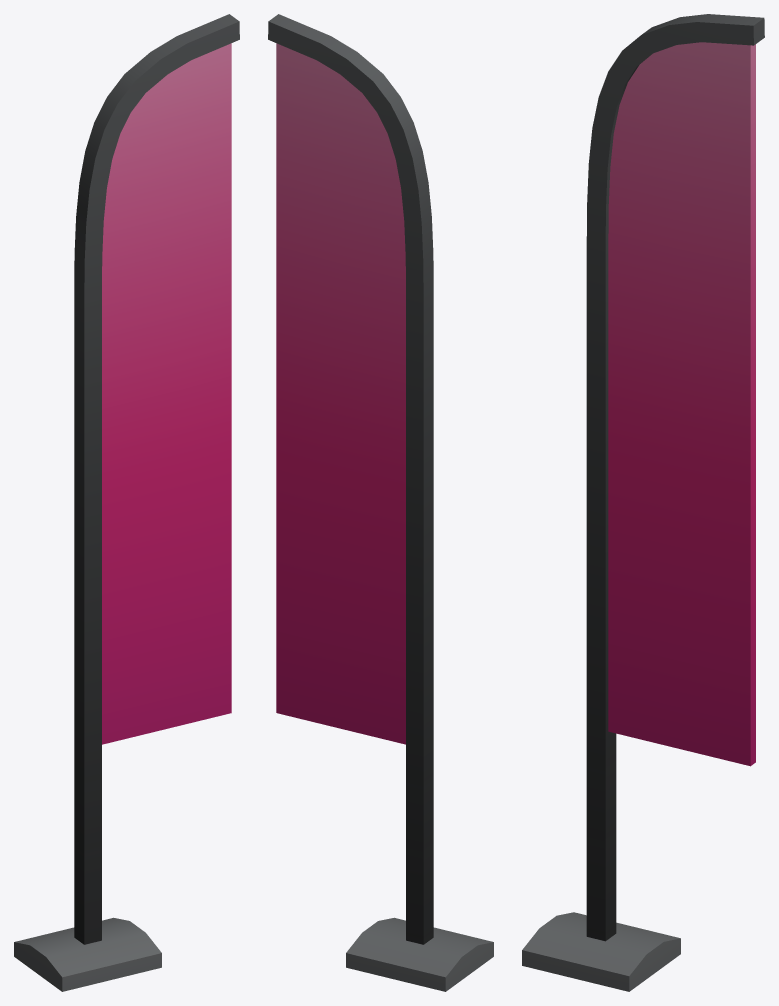
File: Flag_01.fbx
3 views of the same model, side by side, from view 1: azimuth 30°, elevation 25°; view 2: azimuth 150°, elevation 25°; view 3: azimuth 330°, elevation 25° (orthographic). The views are drawn at different scales.
Parts seen in each view (by area): view 1: Flag_01; view 2: Flag_01; view 3: Flag_01.
Part boxes in pixels (box(x1,y1,x2,y2)): Flag_01: box(14, 14, 239, 991); Flag_01: box(268, 14, 493, 991); Flag_01: box(522, 14, 764, 991).
Bounding box in the file's own units: 90.42 × 38.38 × 399.
